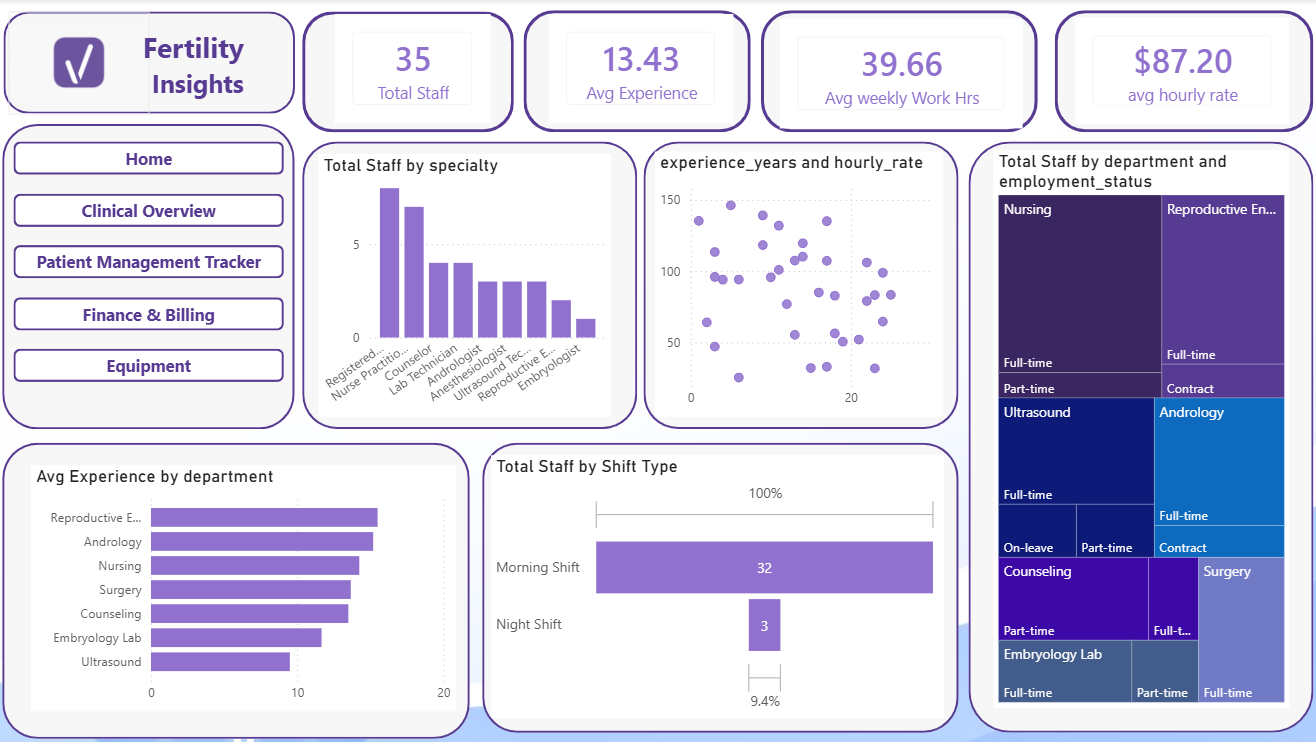

Layout of this report page (visuals, bound fields, positions):
{"tool":"powerbi","page":{"name":"Staff & Operations","canvas":[1280,720],"ordinal":3},"visuals":[{"type":"shape","box":[6.9,12.3,281.3,98.8],"z":0},{"type":"image","box":[12.3,12.3,135.8,98.8],"z":1000},{"type":"textbox","box":[120.8,23.3,148.2,74.1],"z":2000},{"type":"shape","box":[6.3,120.4,282.1,294.7],"z":3000},{"type":"pageNavigator","box":[17.3,138,261.2,234.1],"z":4000},{"type":"shape","box":[295.6,137.5,323.3,277.5],"z":5000},{"type":"shape","box":[624.9,137.5,304,277.5],"z":6000},{"type":"shape","box":[6,428.3,451.2,285.9],"z":7000},{"type":"shape","box":[469.3,428.3,459.7,279.9],"z":8000},{"type":"shape","box":[295.9,12.5,204.4,116.6],"z":9000},{"type":"shape","box":[509.1,11.3,219.4,117.9],"z":10000},{"type":"shape","box":[738.6,11.3,267.1,117.9],"z":11000},{"type":"shape","box":[1021.9,11.3,249.5,117.9],"z":12000},{"type":"cardVisual","fields":{"Data":["staff.Total Staff"]},"box":[327.3,15,150.5,105.3],"z":13000},{"type":"cardVisual","fields":{"Data":["staff.Avg Experience"]},"box":[532.9,15,178.1,105.3],"z":14000},{"type":"cardVisual","fields":{"Data":["staff.Avg weekly Work Hrs"]},"box":[756.1,18.8,234.5,105.3],"z":15000},{"type":"cardVisual","fields":{"Data":["staff.avg hourly rate"]},"box":[1041.2,18.1,207.5,102.5],"z":16000},{"type":"clusteredBarChart","fields":{"Category":["staff.department"],"Y":["staff.Avg Experience"]},"box":[33.8,450,410.2,237.7],"z":17000},{"type":"clusteredColumnChart","fields":{"Category":["staff.specialty"],"Y":["staff.Total Staff"]},"box":[311.3,149.6,282.3,253.4],"z":18000},{"type":"scatterChart","fields":{"X":["staff.experience_years"],"Y":["staff.hourly_rate"]},"box":[635.8,147.2,278.7,255.8],"z":19000},{"type":"shape","box":[938.6,137.5,333,570.6],"z":20000},{"type":"funnel","fields":{"Category":["staff.Shift Type"],"Y":["staff.Total Staff"]},"box":[477.8,440.4,436.7,253.4],"z":21000},{"type":"treemap","fields":{"Group":["staff.department"],"Details":["staff.employment_status"],"Values":["staff.Total Staff"]},"box":[962.7,146,285.9,538.1],"z":22000}]}

Visuals, with their boxes in screenshot pixels (x1, y1, x2, y2), scaled from the page's 1280x720 canvas onto the 1316x742 screenshot:
shape: box(7, 13, 296, 114)
image: box(13, 13, 152, 114)
textbox: box(124, 24, 277, 100)
shape: box(6, 124, 297, 428)
pageNavigator: box(18, 142, 286, 383)
shape: box(304, 142, 636, 428)
shape: box(642, 142, 955, 428)
shape: box(6, 441, 470, 736)
shape: box(482, 441, 955, 730)
shape: box(304, 13, 514, 133)
shape: box(523, 12, 749, 133)
shape: box(759, 12, 1034, 133)
shape: box(1051, 12, 1307, 133)
cardVisual - staff.Total Staff: box(337, 15, 491, 124)
cardVisual - staff.Avg Experience: box(548, 15, 731, 124)
cardVisual - staff.Avg weekly Work Hrs: box(777, 19, 1018, 128)
cardVisual - staff.avg hourly rate: box(1070, 19, 1284, 124)
clusteredBarChart - staff.department x staff.Avg Experience: box(35, 464, 456, 709)
clusteredColumnChart - staff.specialty x staff.Total Staff: box(320, 154, 610, 415)
scatterChart - staff.experience_years x staff.hourly_rate: box(654, 152, 940, 415)
shape: box(965, 142, 1307, 730)
funnel - staff.Shift Type x staff.Total Staff: box(491, 454, 940, 715)
treemap - staff.department x staff.employment_status: box(990, 150, 1284, 705)
